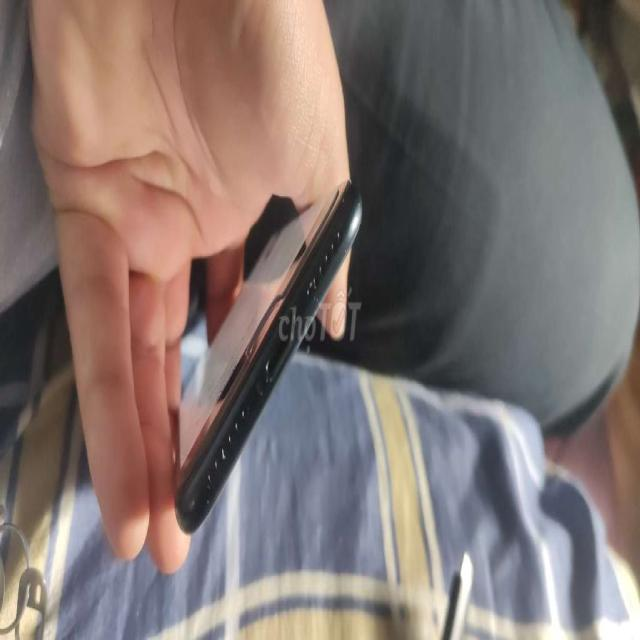scratch: (183, 495, 214, 525), (252, 372, 275, 408), (335, 188, 352, 216), (312, 290, 324, 315)
